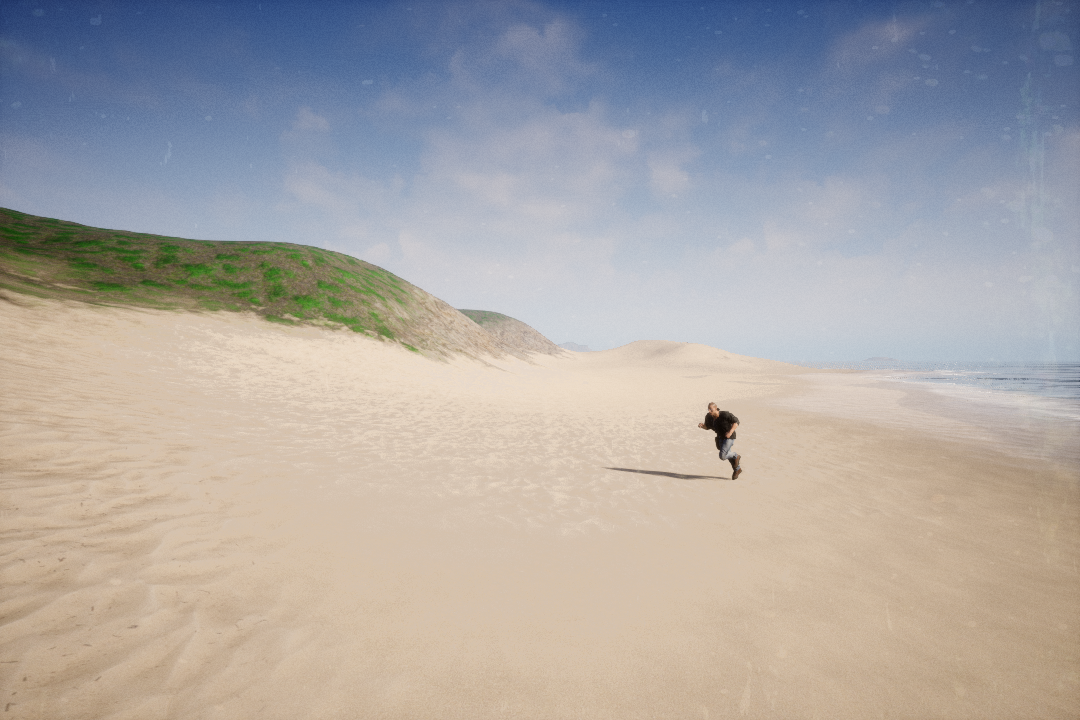person: (695, 394, 756, 483)
